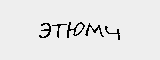М: (84, 21, 104, 39)
Т: (52, 21, 66, 41)
Ч: (104, 21, 123, 43)
Э: (38, 20, 52, 42)
Ю: (65, 20, 86, 38)
